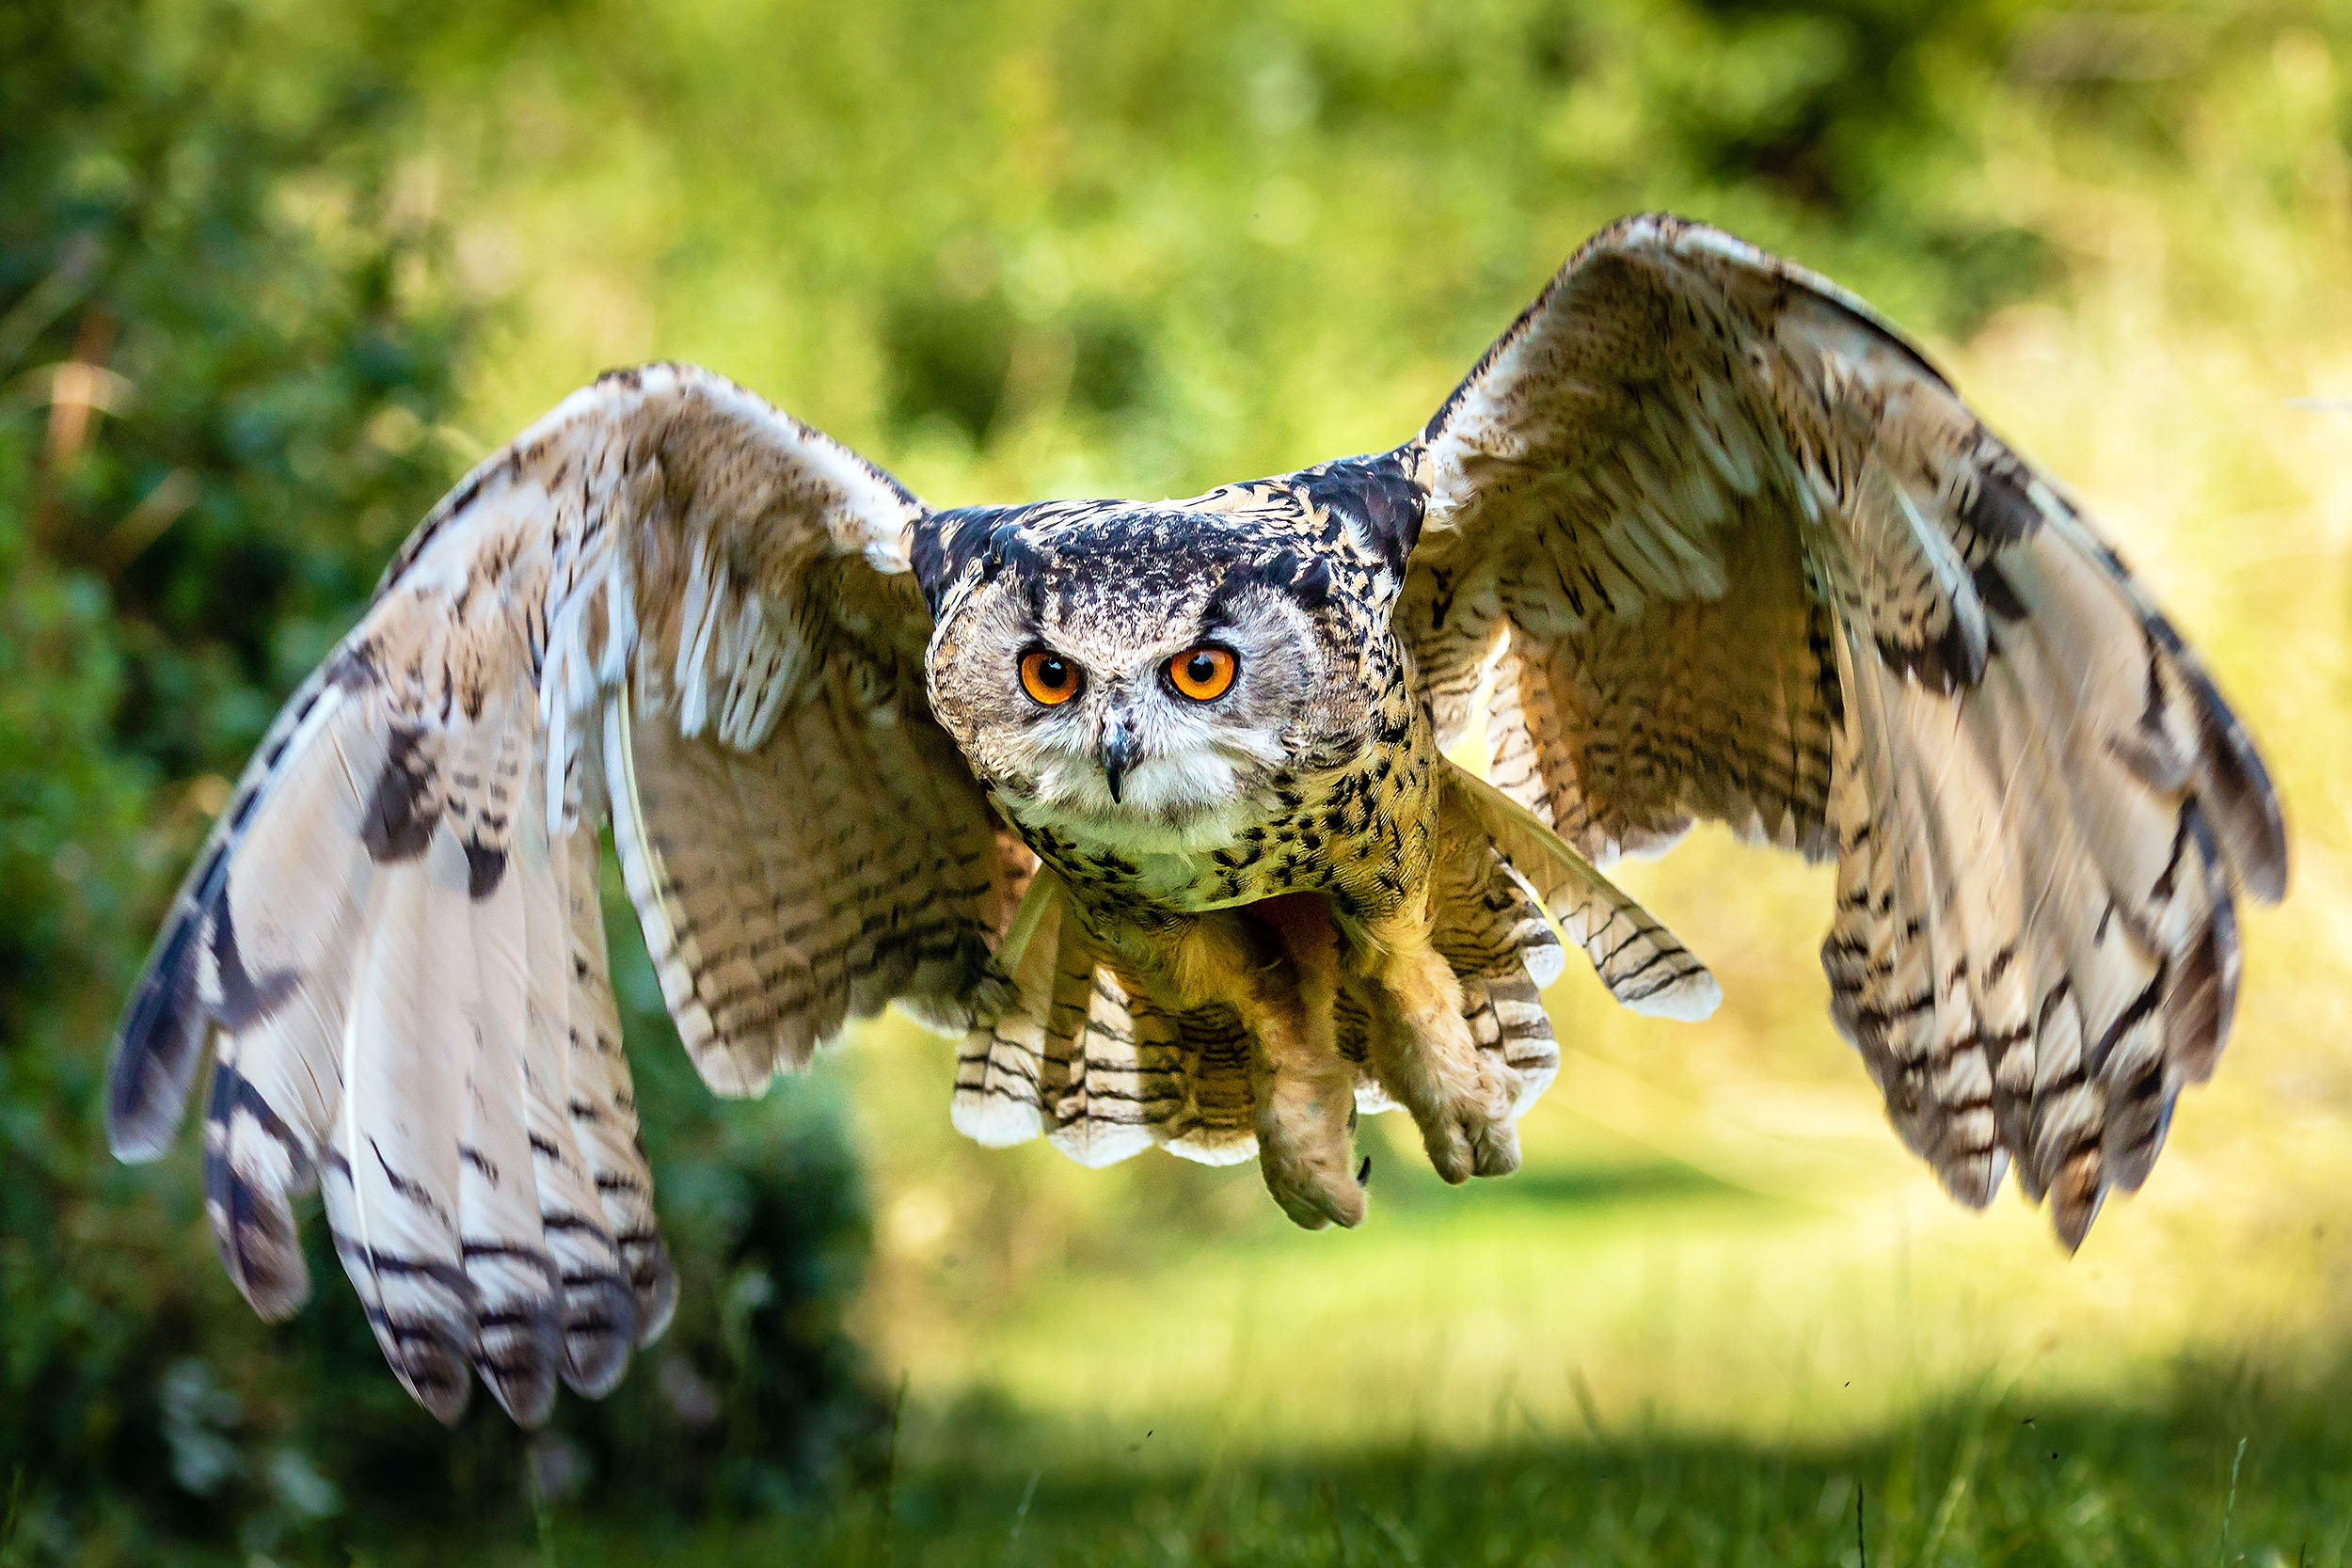owl: (164, 173, 2301, 1356)
